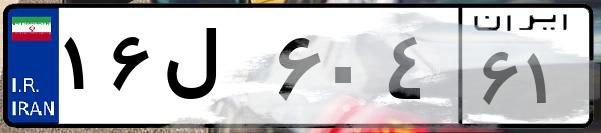0: (330, 28, 385, 110)
1: (57, 26, 110, 100), (525, 38, 570, 115)
4: (385, 28, 445, 110)
6: (270, 28, 330, 110), (475, 38, 525, 113), (110, 28, 158, 98)
ل: (158, 20, 270, 120)
